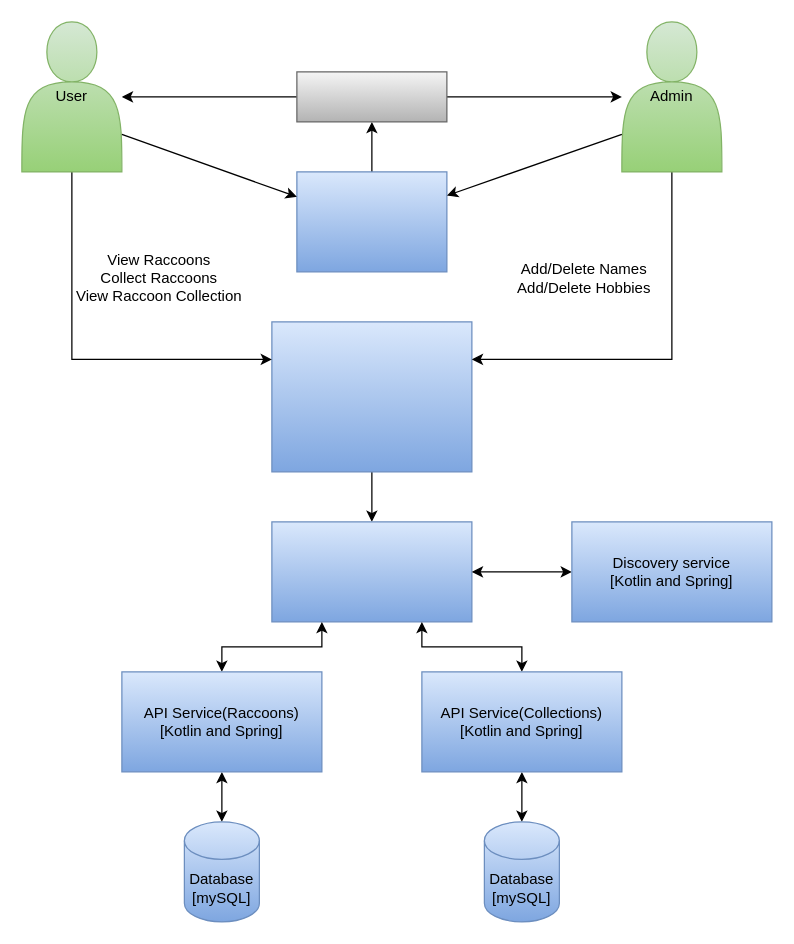
Some shapes in this 794 by 944 pixel diagram are drawn without their labels. Each missing label, with the centre of its shape:
API Gateway [Kotlin and Spring]: (x=371, y=571)
API Login Service [External]: (x=371, y=221)
Login System: (x=371, y=96)
Single-page application [Javascript and React]: (x=371, y=396)
